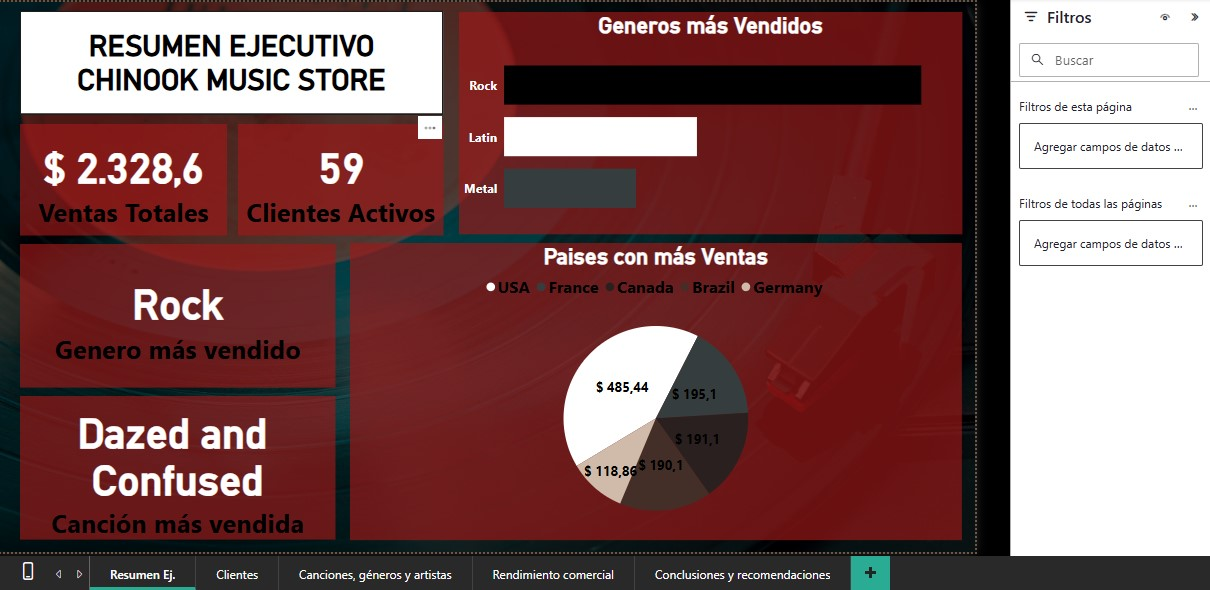

The dashboard page shown, as its layout file describes it:
{"tool":"powerbi","page":{"name":"Resumen Ej.","canvas":[1280,720],"ordinal":0},"visuals":[{"type":"card","fields":{"Values":["Sum(Vista_Comparacion_Regiones.TotalGastado)"]},"box":[30.5,159.2,270.9,145.6],"z":0},{"type":"card","fields":{"Values":["CountNonNull(Customer.CustomerId)"]},"box":[314.9,159.2,269.2,145.6],"z":1000},{"type":"card","fields":{"Values":["Min(Vista_Top3_GenerosVendidos.Name)"]},"box":[30.5,316.6,413.1,187.9],"z":2000},{"type":"card","fields":{"Values":["Min(Vista_Canciones_MasVendidas.Name)"]},"box":[30.5,516.4,413.1,187.9],"z":3000},{"type":"barChart","title":"Generos más Vendidos","fields":{"Category":["Vista_Top3_GenerosVendidos.Name"],"Y":["Sum(Vista_Top3_GenerosVendidos.Total_por_Genero)"]},"box":[604.4,13.5,658.6,291.2],"z":4000},{"type":"pieChart","title":"Paises con más Ventas","fields":{"Y":["Sum(Vista_Paises_Mayor_Gasto.GastadoPorPais)"],"Category":["Vista_Paises_Mayor_Gasto.Country"]},"box":[462.2,314.9,800.8,389.4],"z":5000},{"type":"textbox","box":[30.5,11.9,553.7,135.4],"z":6000}]}

Visuals, with their boxes on the page's 1280x720 design canvas (x1, y1, x2, y2). These are canvas units, not pixel positions in the 1210x590 screenshot, which may show the page scaled, cropped or inside an application window:
card - Sum(Vista_Comparacion_Regiones.TotalGastado): bbox(30, 159, 301, 305)
card - CountNonNull(Customer.CustomerId): bbox(315, 159, 584, 305)
card - Min(Vista_Top3_GenerosVendidos.Name): bbox(30, 317, 444, 504)
card - Min(Vista_Canciones_MasVendidas.Name): bbox(30, 516, 444, 704)
"Generos más Vendidos" barChart: bbox(604, 14, 1263, 305)
"Paises con más Ventas" pieChart: bbox(462, 315, 1263, 704)
textbox: bbox(30, 12, 584, 147)
